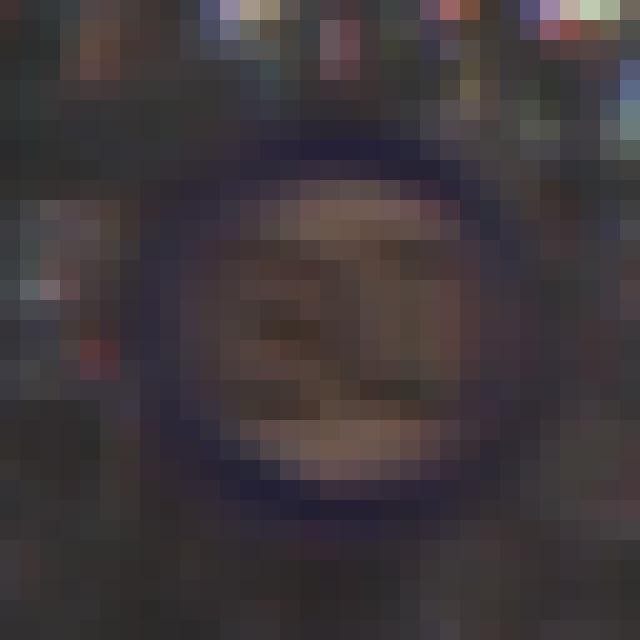SPEED-LIMIT-80: (137, 142, 548, 510)
